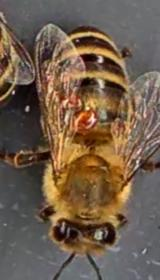varroa_mite: (68, 104, 104, 128)
